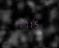five: (33, 19, 37, 27)
one: (18, 20, 22, 28), (28, 20, 32, 27)
seven: (23, 20, 27, 28)
